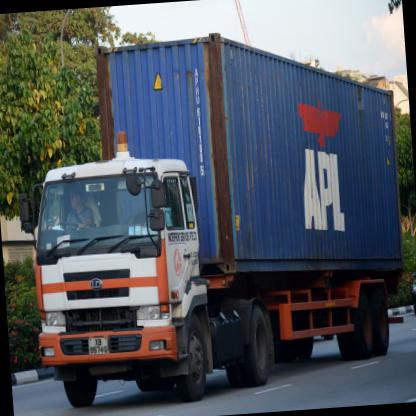truck: (26, 151, 219, 414)
